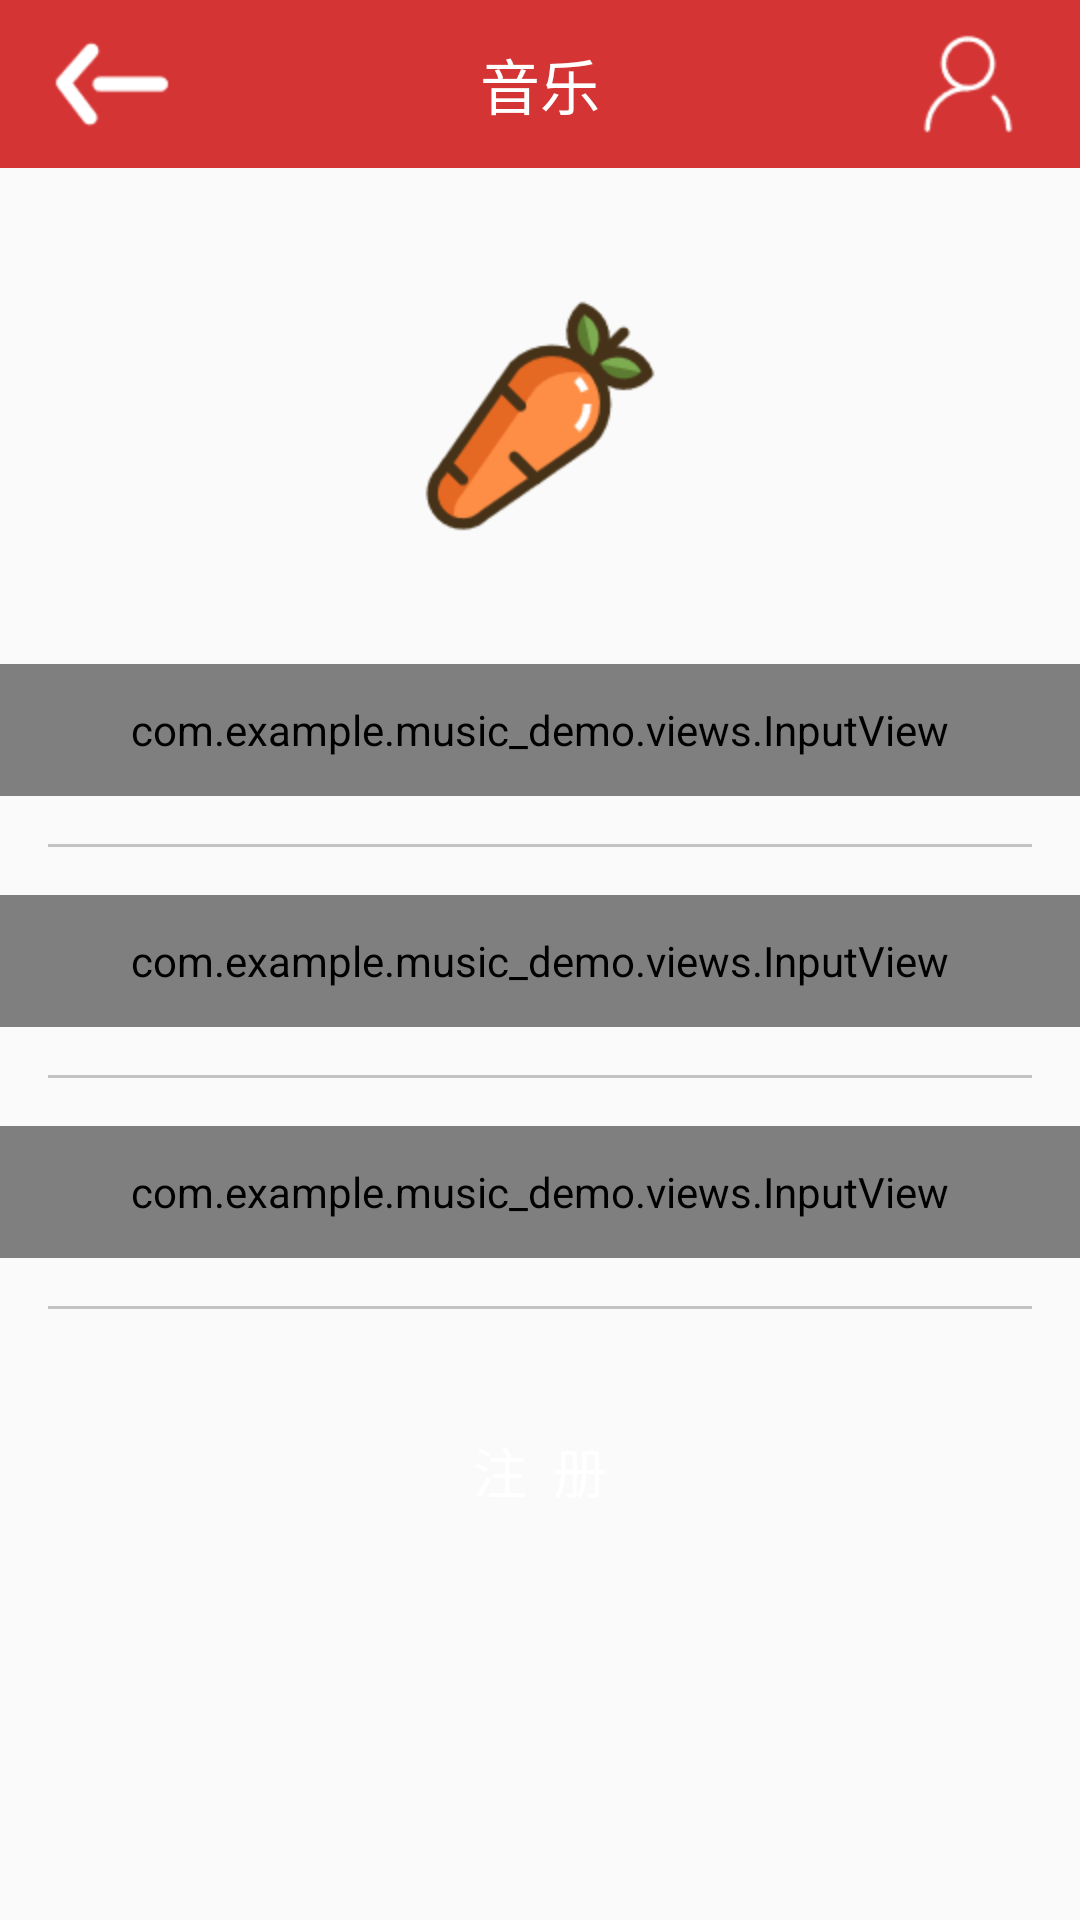

Locate icon controls on the screen. Image size 1080 × 1920, boxes as [x1,y1,x2,y2].
back: [55,42,169,126]
carrot: [425,301,655,531]
